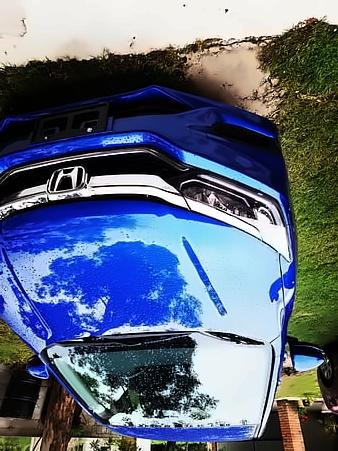Car hood: (0, 198, 286, 346)
Front bumper: (0, 80, 326, 196)
Headlight - -R-: (175, 172, 295, 266)
Side mirror - -L-: (17, 355, 60, 386)
Side mirror - -R-: (284, 336, 332, 379)
